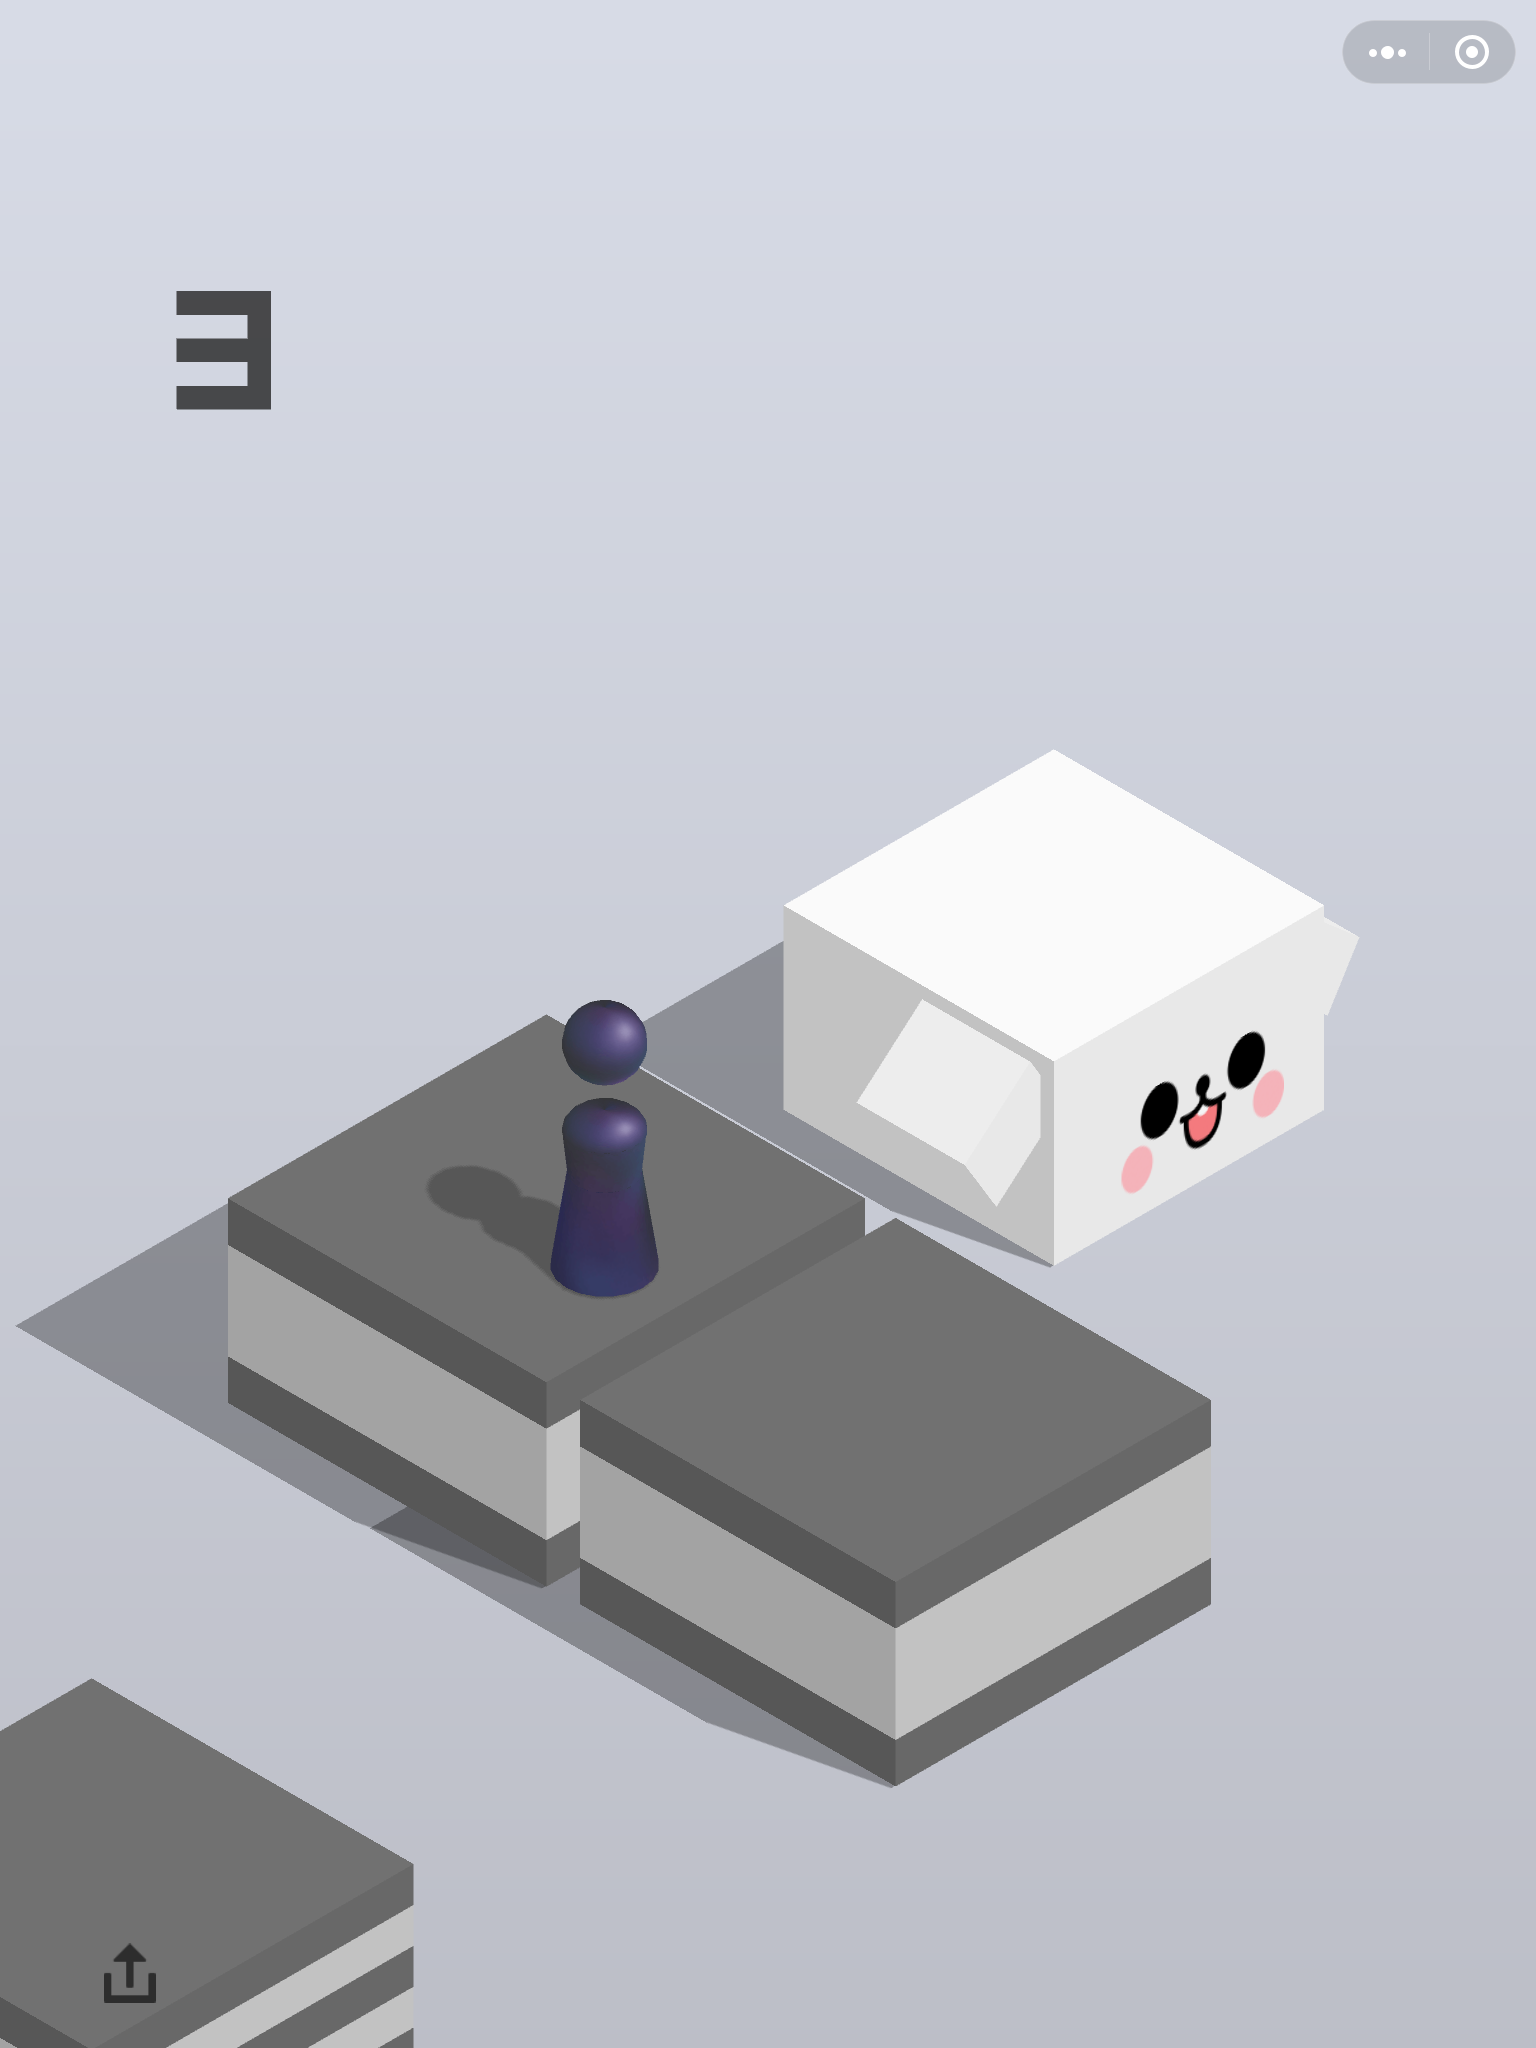f: (219, 1011, 871, 1593), (574, 1218, 1217, 1788), (778, 747, 1365, 1272), (2, 1675, 418, 2048)
r: (547, 997, 666, 1303)
